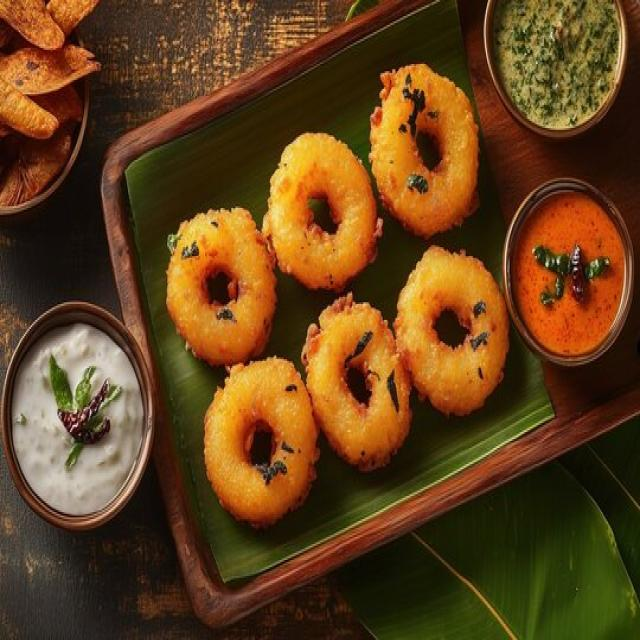MEDU VADA: (393, 245, 508, 412), (301, 295, 410, 469), (370, 64, 478, 236), (204, 361, 318, 523), (262, 133, 380, 288), (166, 210, 276, 364)
